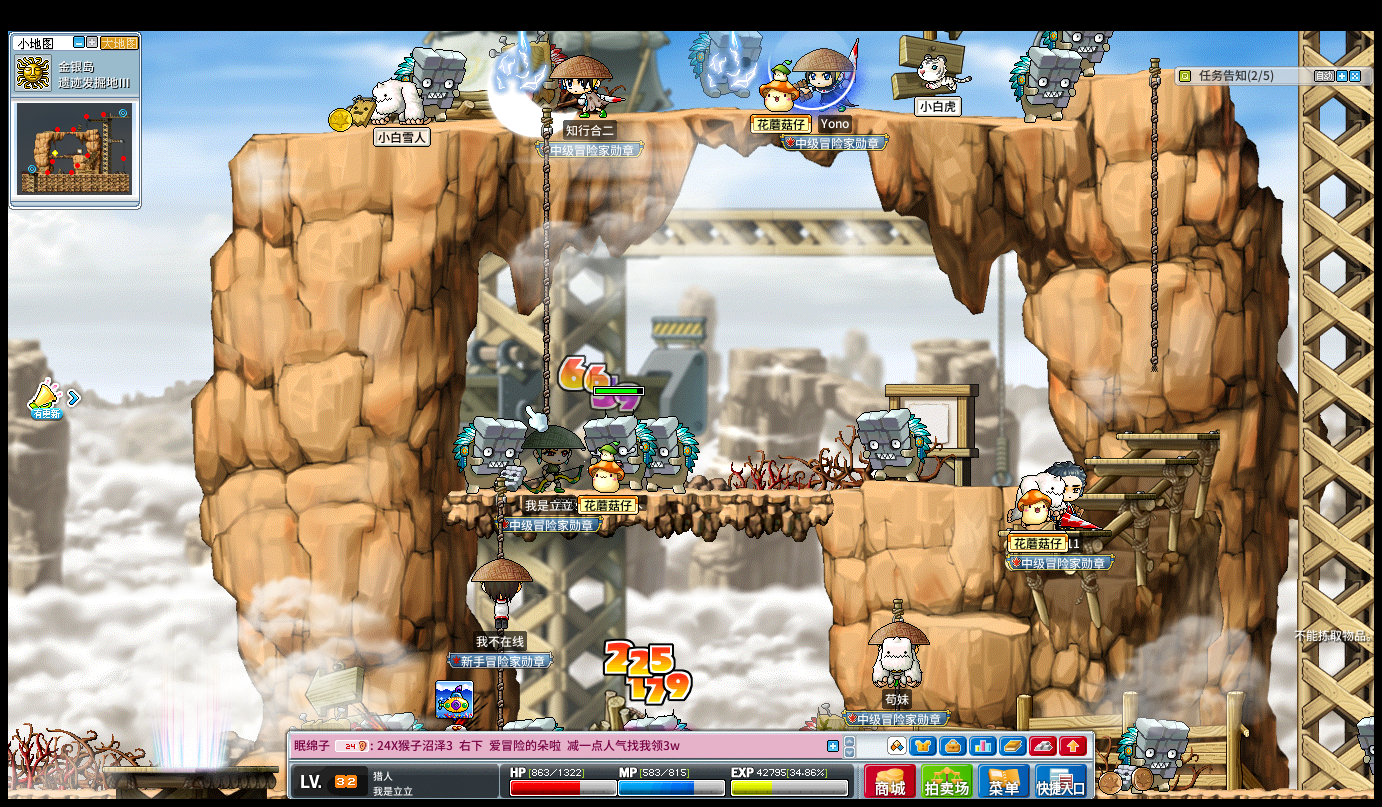floor: (206, 104, 1107, 139), (448, 487, 831, 500), (923, 612, 1029, 634), (1116, 429, 1221, 441), (996, 527, 1117, 536), (1085, 68, 1166, 81), (933, 482, 1020, 493), (1081, 456, 1194, 464), (1071, 492, 1157, 500)
monster: (855, 406, 932, 484), (452, 415, 525, 493), (1009, 46, 1081, 123), (688, 28, 757, 107), (584, 413, 653, 490), (1118, 717, 1189, 791), (490, 30, 559, 104), (403, 44, 466, 121), (649, 417, 699, 492), (583, 414, 654, 460)
rope: (1147, 55, 1161, 377), (540, 117, 550, 422), (490, 485, 504, 560)
